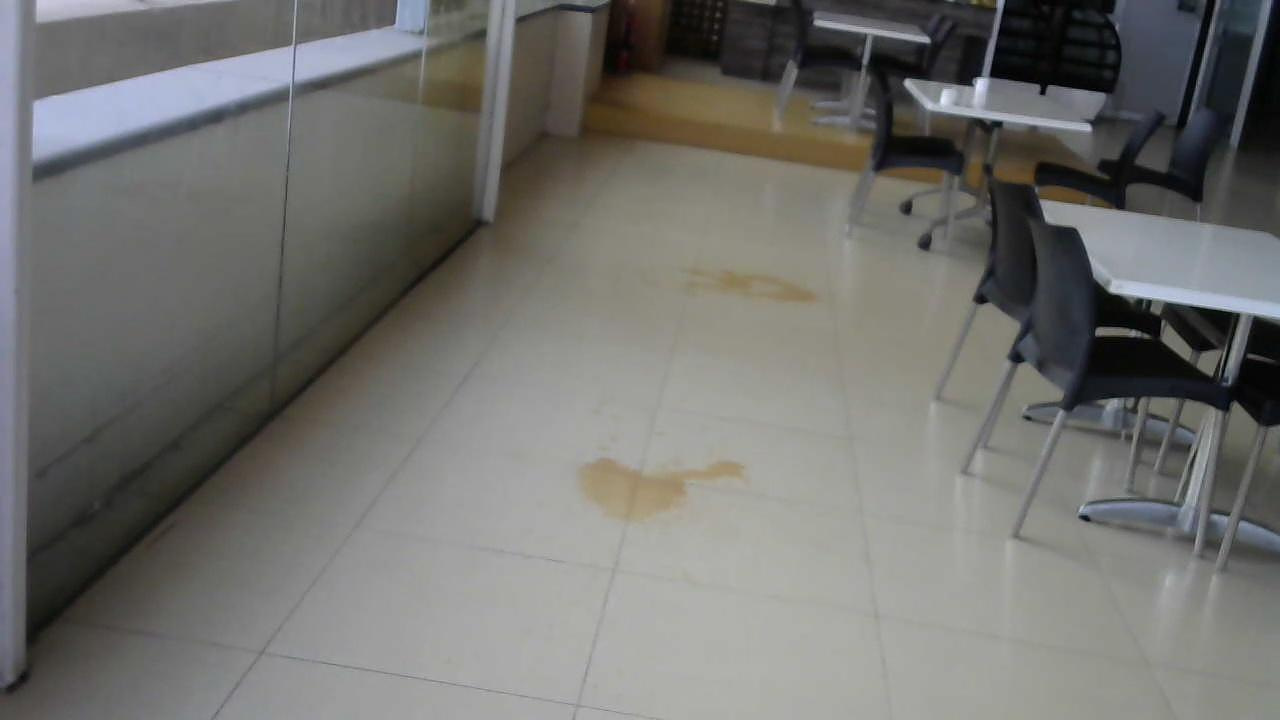dirty_floor: (568, 432, 755, 532)
